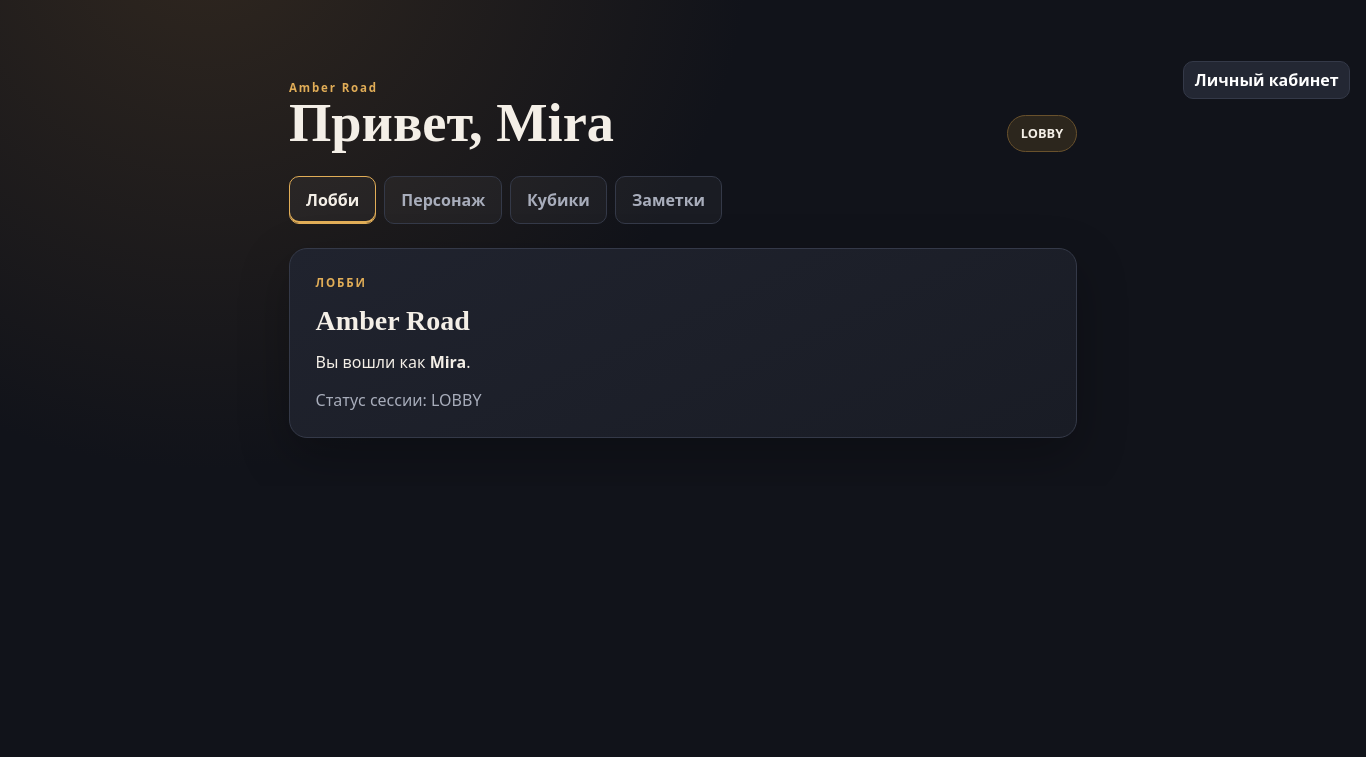
Test: local multiplayer interface › discards inventory only after server acknowledgement
Click the button "Персонаж": (443, 200) 384,176 -> 502,224
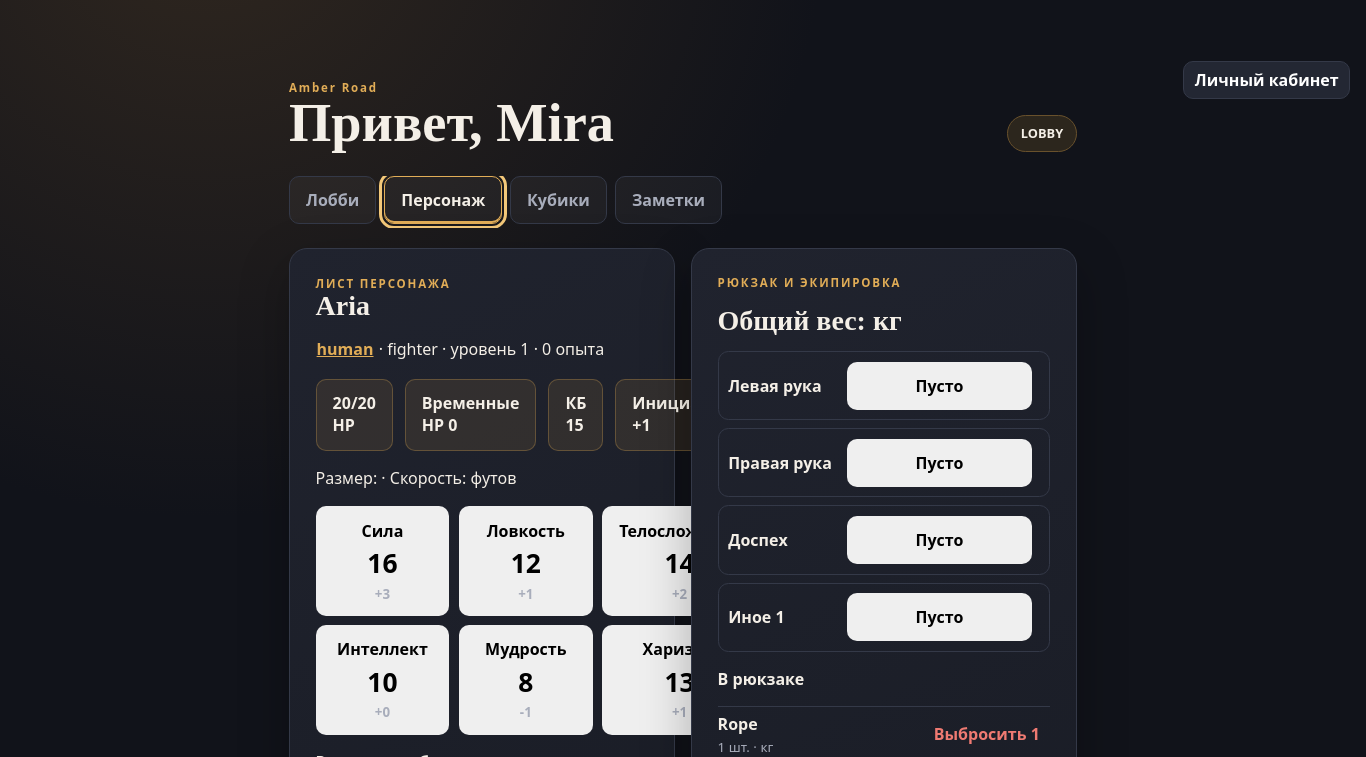
Expected: the text "Rope" is shown, 718,713 -> 758,735
Click the button named "Удалить 1": (987, 734) 923,714 -> 1050,754
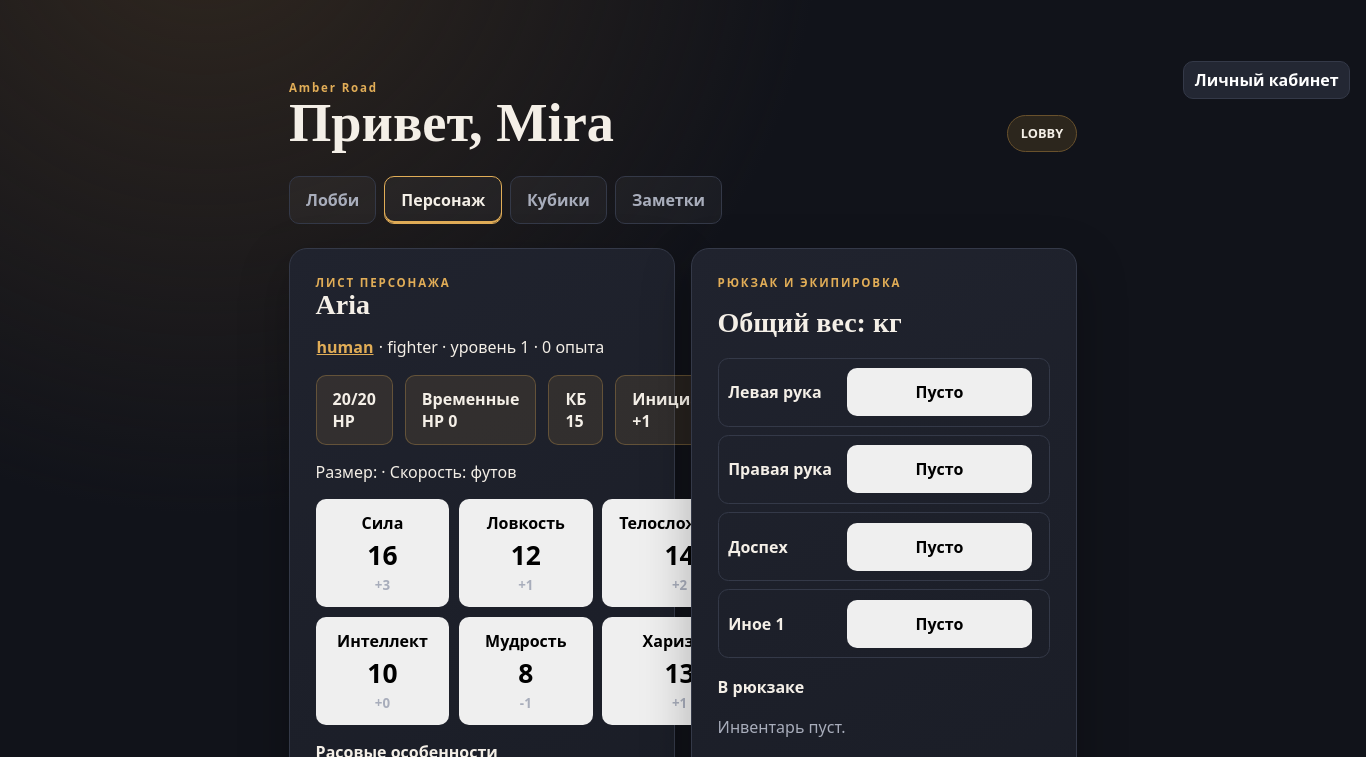
Expected: the text "Инвентарь пуст." is shown, 718,716 -> 846,738
